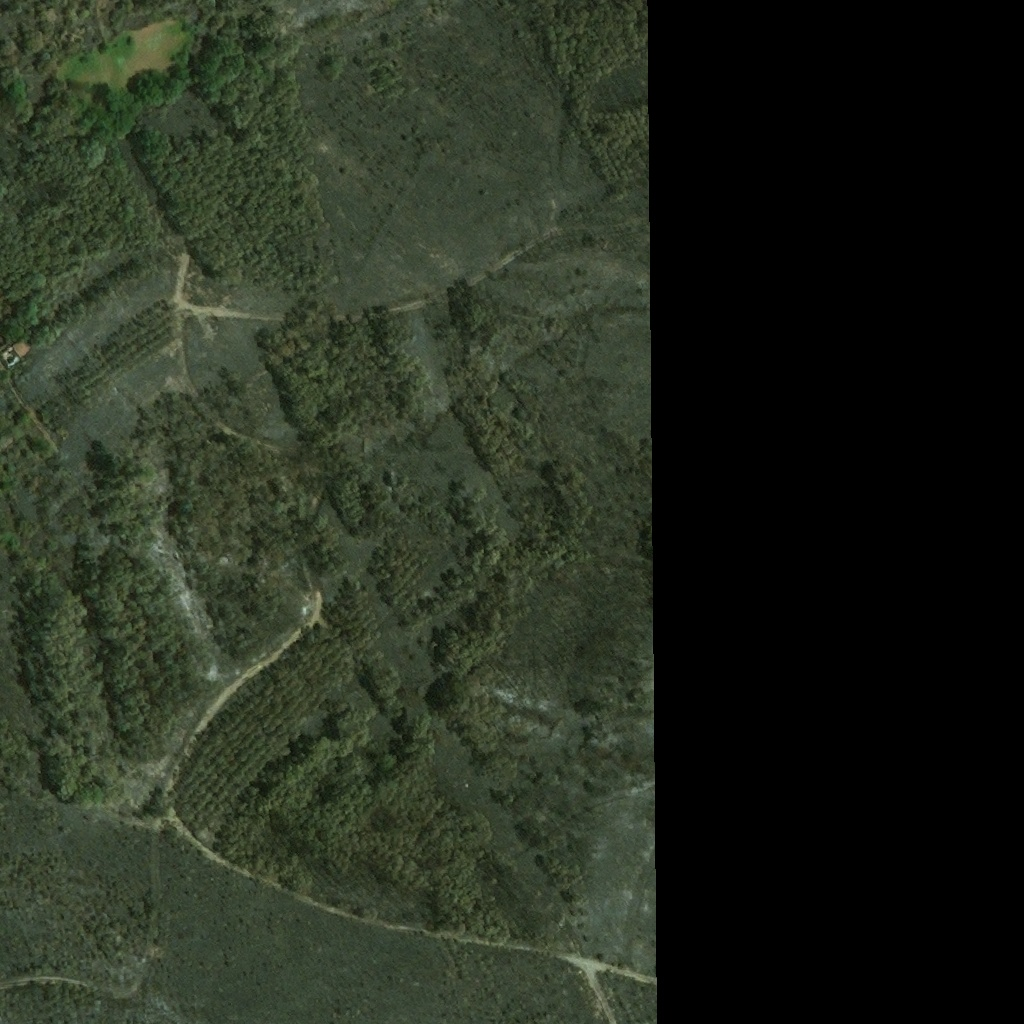2 major-damage: (12, 339, 36, 361)
3 destroyed: (60, 30, 82, 50), (1, 342, 18, 359), (43, 7, 59, 24)
